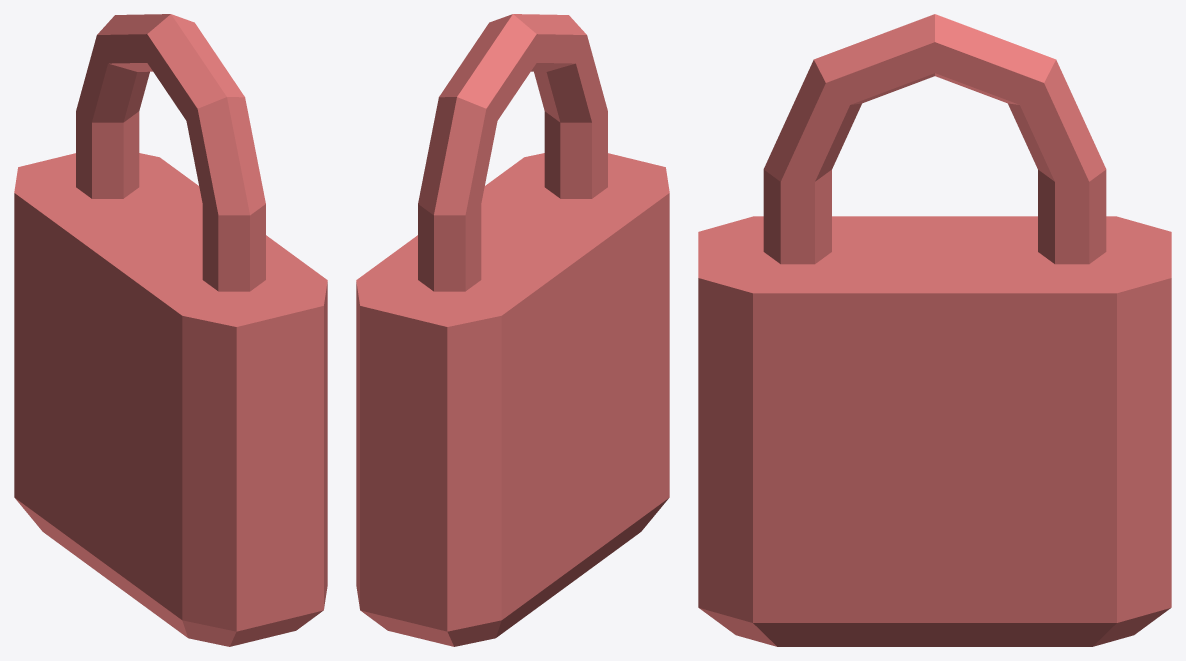
File: Locked.glb
The picture shows the model from 3 angles, left to right: view 1: azimuth 30°, elevation 25°; view 2: azimuth 150°, elevation 25°; view 3: azimuth 270°, elevation 25°; orthographic projection. The views are drawn at different scales.
Visible parts, largest first — view 1: Cube, Torus; view 2: Cube, Torus; view 3: Cube, Torus.
Part boxes in pixels (x1,y1,x2,y2): Cube: [14, 153, 327, 646]; Torus: [76, 14, 265, 291]; Cube: [356, 153, 669, 646]; Torus: [418, 14, 607, 291]; Cube: [698, 216, 1171, 646]; Torus: [763, 14, 1106, 264].
Size of the model in its own units: 0.5 by 1.83 by 1.3.
